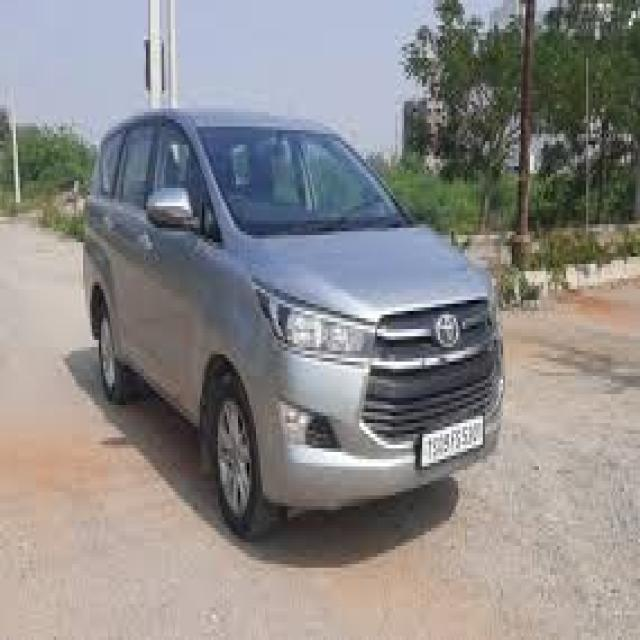light_vehicle: (83, 108, 504, 540)
